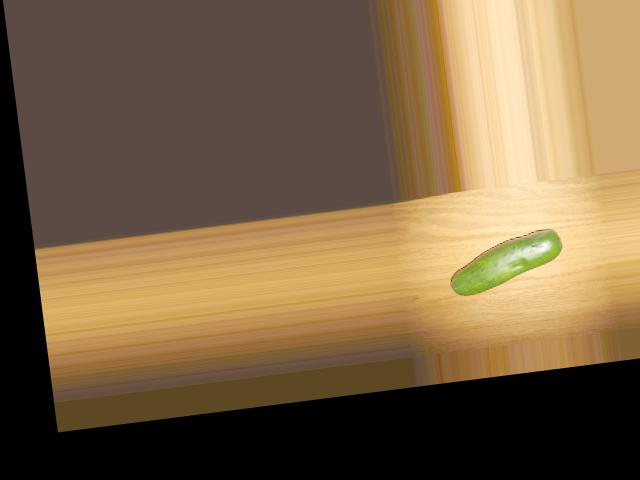cucumber: (444, 227, 565, 296)
